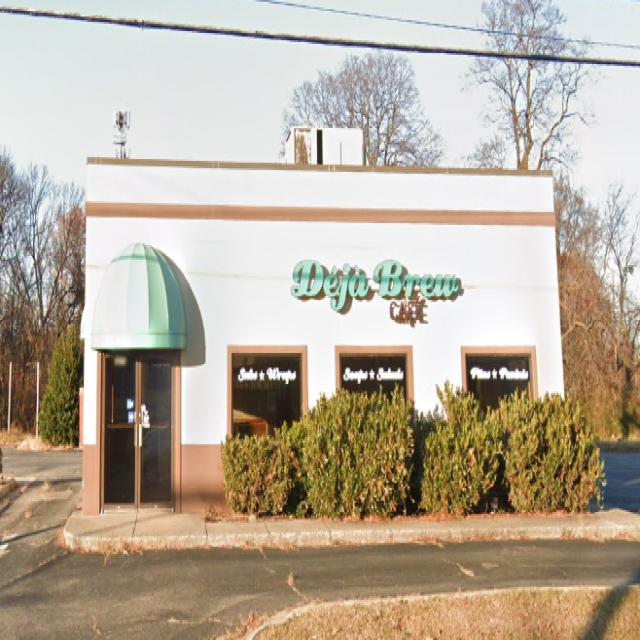House: (80, 126, 566, 514)
